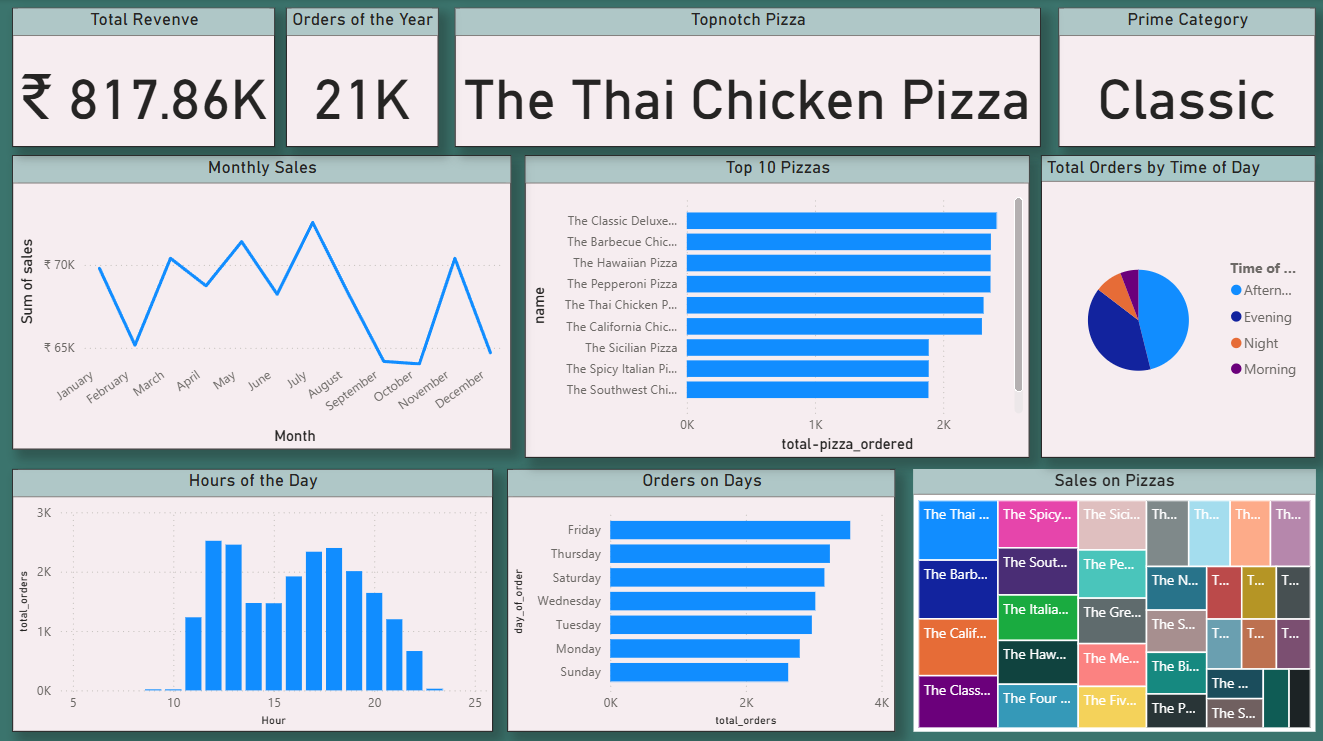

What the dashboard file says about the page in this screenshot:
{"tool":"powerbi","page":{"name":"Page 1","canvas":[1280,720],"ordinal":0},"visuals":[{"type":"columnChart","title":"Hours of the Day","fields":{"Category":["orders.Hour"],"Y":["order_details.total_orders"]},"box":[15.1,454.2,463.8,253.9],"z":0},{"type":"clusteredBarChart","title":"Orders on Days","fields":{"Category":["orders.day_of_order"],"Y":["order_details.total_orders"]},"box":[494,454.2,374.6,253.9],"z":1000},{"type":"barChart","title":"Top 10 Pizzas","fields":{"Category":["pizza_types.name"],"Y":["order_details.total-pizza_ordered"]},"box":[510.5,150.9,487.1,292.3],"z":2000},{"type":"treemap","title":"Sales on Pizzas","fields":{"Group":["order_details.ordered_pizza"],"Values":["Sum(order_details.sales)"]},"box":[885.1,454.2,388.3,253.9],"z":3000},{"type":"card","title":"Prime Category","fields":{"Values":["order_details.Top Selling Category by Sales"]},"box":[1025,8.2,248.4,134.5],"z":4000},{"type":"pieChart","fields":{"Category":["orders.Time of Day"],"Y":["orders.Total Orders"]},"box":[1008.6,150.9,264.8,292.3],"z":5000},{"type":"lineChart","title":"Monthly Sales","fields":{"Y":["Sum(order_details.sales)"],"Category":["orders.date.Variation.Date Hierarchy.Month"]},"box":[15.1,150.9,481.6,284],"z":6000},{"type":"card","title":"Total Revenve","fields":{"Values":["Sum(order_details.sales)"]},"box":[15.1,8.2,253.9,134.5],"z":7000},{"type":"card","title":"Topnotch Pizza","fields":{"Values":["order_details.Top Selling Pizza by Sales"]},"box":[443.2,8.2,565.4,134.5],"z":8000},{"type":"card","title":"Orders of the Year","fields":{"Values":["order_details.total_orders"]},"box":[279.9,8.2,146.8,134.5],"z":9000}]}

Visuals, with their boxes in screenshot pixels (x1, y1, x2, y2), scaled from the page's 1280x720 canvas onto the 1323x741 screenshot:
"Hours of the Day" columnChart: 16:467:495:729
"Orders on Days" clusteredBarChart: 511:467:898:729
"Top 10 Pizzas" barChart: 528:155:1031:456
"Sales on Pizzas" treemap: 915:467:1316:729
"Prime Category" card: 1059:8:1316:147
pieChart - orders.Time of Day x orders.Total Orders: 1042:155:1316:456
"Monthly Sales" lineChart: 16:155:513:448
"Total Revenve" card: 16:8:278:147
"Topnotch Pizza" card: 458:8:1042:147
"Orders of the Year" card: 289:8:441:147
